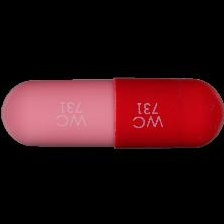50436-0106: (0, 0, 224, 224)
